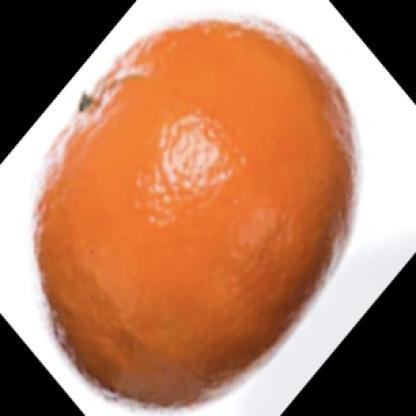fresh: (33, 20, 355, 411)
